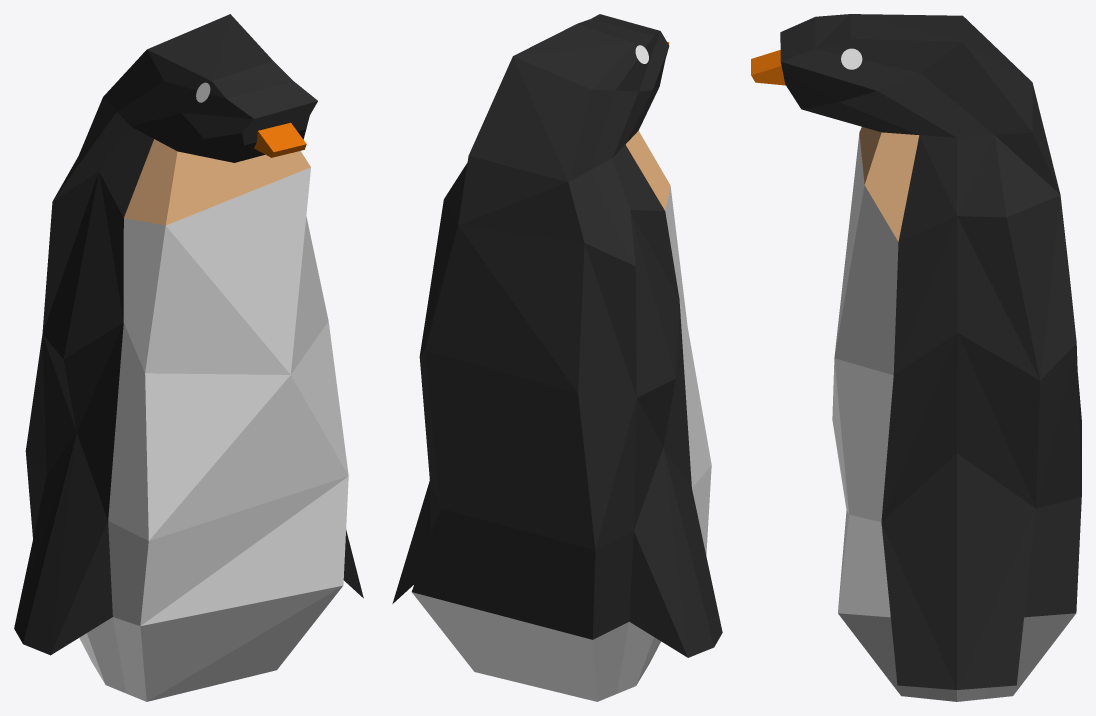
The model's file is PengquinNormalFixed.fbx.
The picture shows the model from 3 angles, left to right: view 1: azimuth 30°, elevation 25°; view 2: azimuth 150°, elevation 25°; view 3: azimuth 270°, elevation 25°; orthographic projection. The views are drawn at different scales.
Visible parts, largest first — view 1: Cube; view 2: Cube; view 3: Cube.
Boxes of the visible parts, x1,y1,x2,y2 form: Cube: (14, 14, 363, 701); Cube: (392, 14, 722, 701); Cube: (751, 14, 1081, 701).
Bounding box in the file's own units: 186 × 353 × 164.
